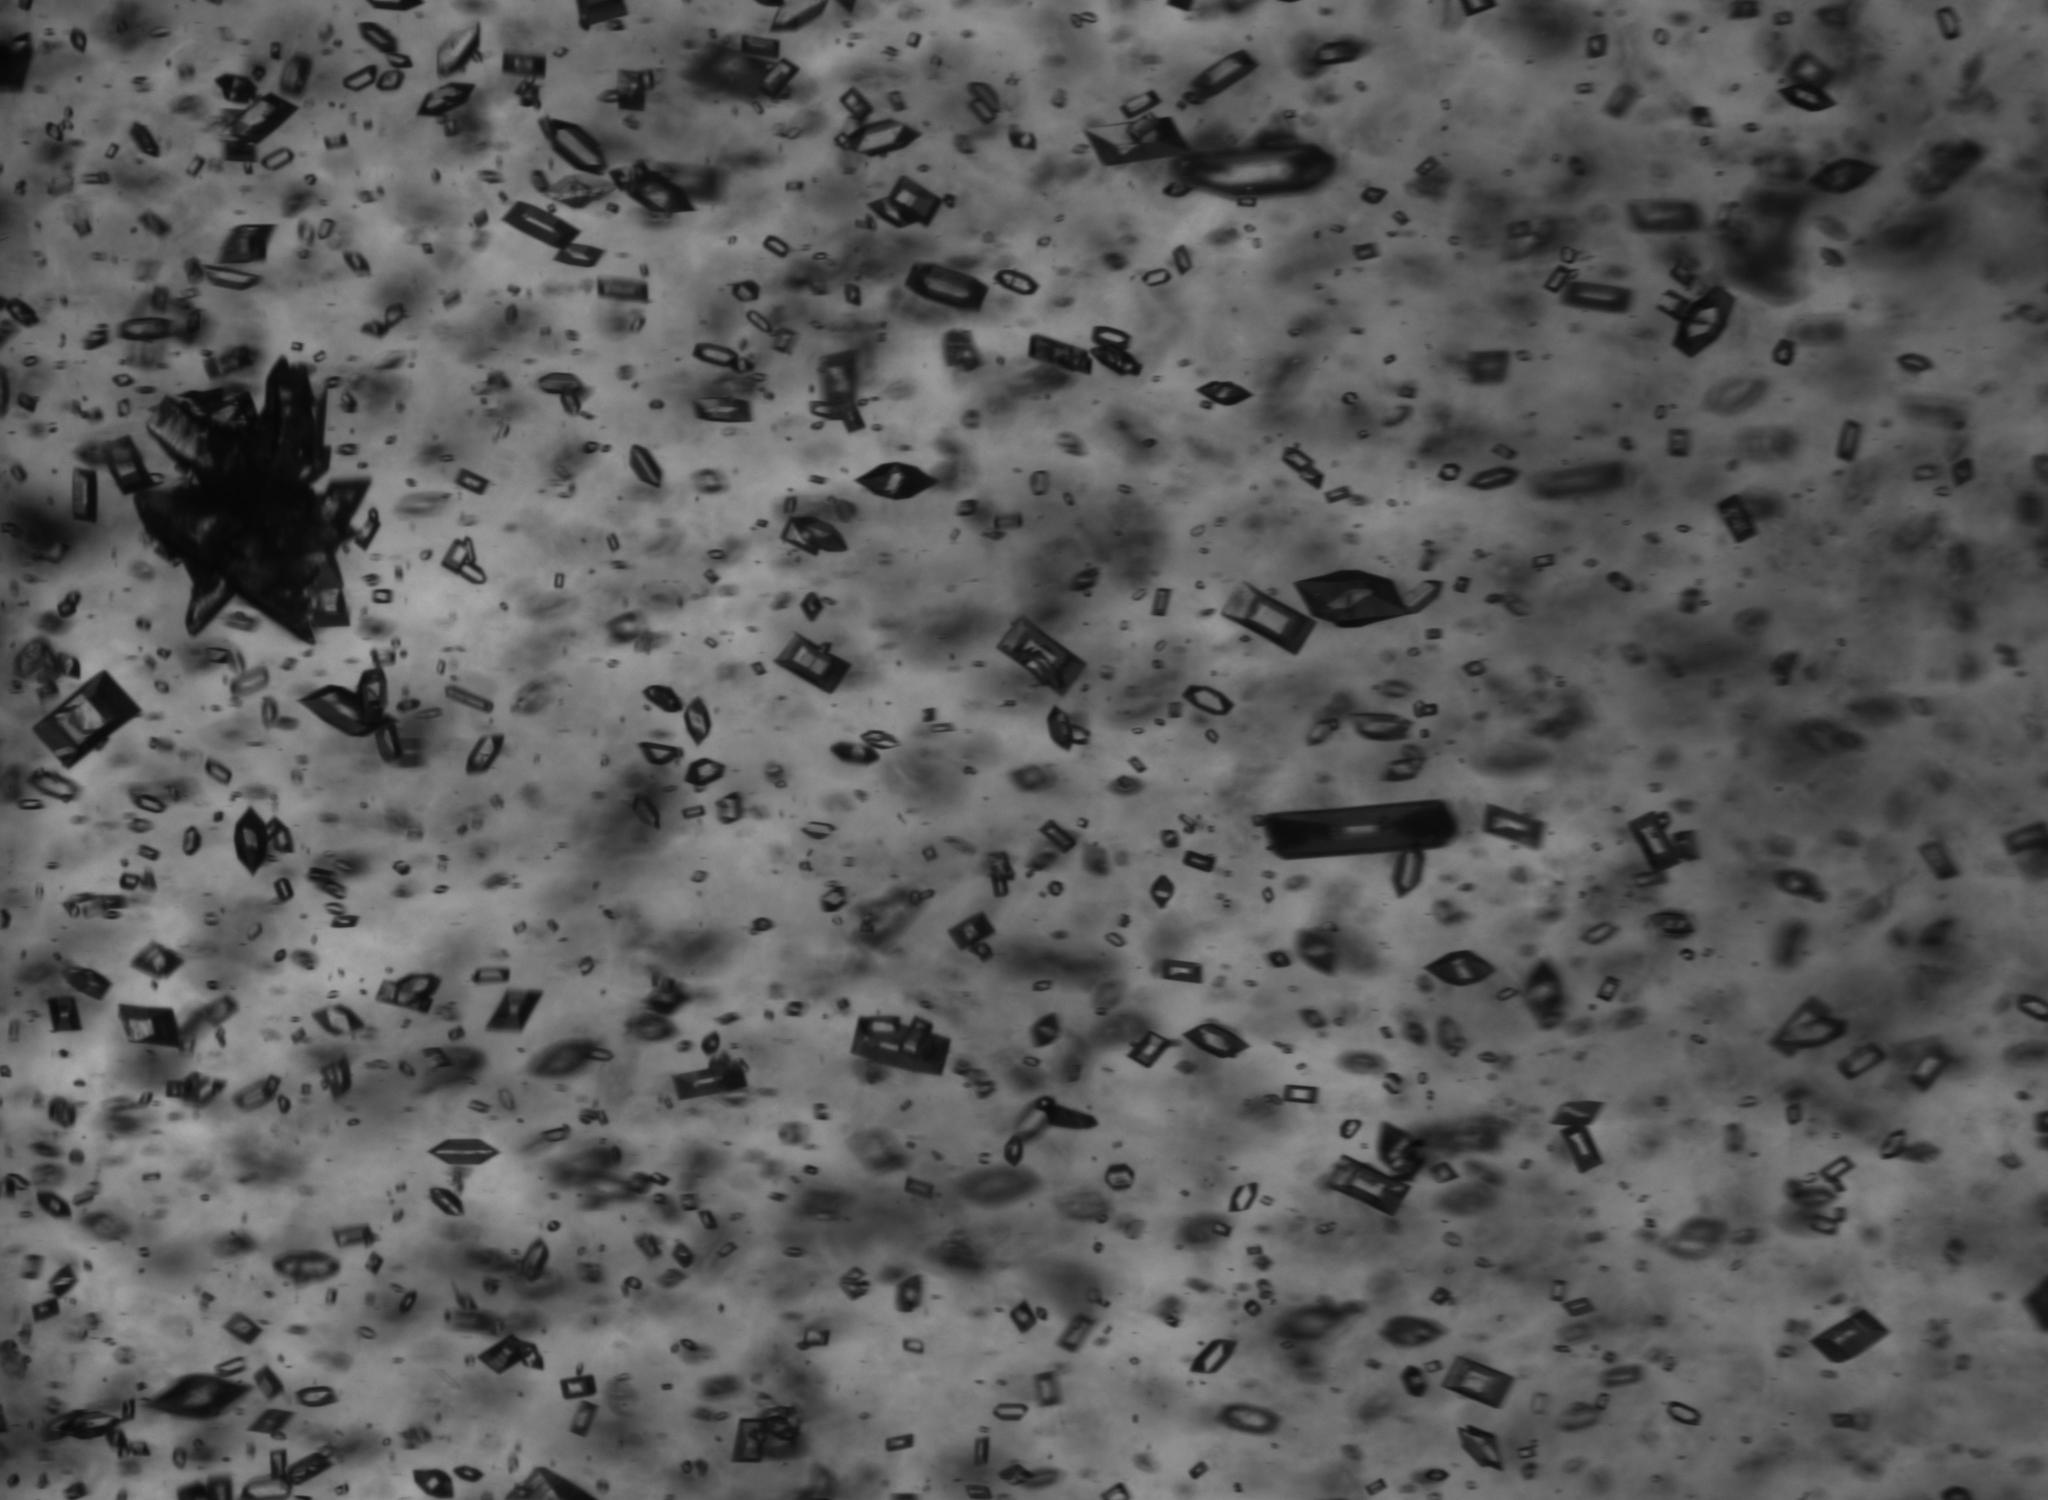crystal: (132, 361, 366, 641), (1255, 800, 1456, 861), (32, 671, 140, 768), (1166, 145, 1337, 192), (216, 65, 297, 164), (1296, 569, 1415, 627), (502, 200, 603, 267), (997, 619, 1084, 694), (1221, 584, 1313, 654), (1654, 285, 1736, 358), (296, 670, 388, 735), (852, 1015, 949, 1075), (194, 223, 277, 290), (1325, 1153, 1410, 1217), (1083, 118, 1193, 165), (240, 1449, 336, 1500), (13, 636, 81, 703), (1809, 1306, 1889, 1363), (149, 1373, 248, 1419), (1628, 811, 1697, 876), (811, 347, 863, 431), (612, 162, 693, 216), (1773, 997, 1848, 1055), (776, 635, 851, 692), (1181, 49, 1258, 105), (730, 1405, 803, 1462), (232, 808, 293, 873), (868, 177, 944, 227), (1441, 1355, 1514, 1408), (906, 264, 989, 310), (1549, 1101, 1603, 1171), (91, 436, 154, 495), (542, 118, 606, 175), (673, 1053, 747, 1101), (472, 1238, 550, 1282), (835, 118, 921, 156), (1778, 54, 1835, 111), (762, 0, 855, 33), (504, 1467, 596, 1500), (857, 461, 937, 499), (1375, 1123, 1426, 1182), (1806, 156, 1881, 196), (119, 1004, 183, 1050), (1089, 326, 1145, 375), (541, 175, 619, 210), (375, 972, 440, 1013), (781, 515, 848, 555), (162, 1071, 229, 1110), (418, 81, 475, 127), (501, 51, 547, 107), (477, 1336, 544, 1374), (1484, 805, 1544, 846), (436, 22, 482, 76), (1029, 334, 1092, 372), (1426, 951, 1495, 986), (1183, 1021, 1248, 1058), (1032, 1096, 1099, 1131), (49, 1408, 122, 1440), (487, 989, 542, 1031), (1630, 200, 1701, 232), (948, 911, 994, 961), (273, 1250, 340, 1284), (1305, 37, 1367, 72), (442, 536, 487, 584), (428, 1137, 499, 1166), (537, 372, 585, 415), (1216, 1403, 1280, 1435), (1563, 280, 1630, 310), (1458, 1427, 1504, 1470), (1905, 1048, 1951, 1091), (1914, 840, 1961, 883), (200, 344, 254, 380), (1046, 708, 1091, 751), (1716, 495, 1757, 541), (1350, 711, 1412, 741), (130, 942, 181, 978), (1837, 1043, 1887, 1080), (192, 262, 261, 290), (1282, 445, 1325, 488), (313, 1004, 366, 1039), (693, 342, 752, 372), (755, 59, 800, 99), (1398, 579, 1442, 617), (1390, 849, 1426, 896), (2002, 819, 2048, 856), (1189, 1338, 1237, 1373), (1053, 1314, 1094, 1354), (838, 86, 876, 129), (64, 964, 110, 999), (967, 81, 1002, 127), (70, 466, 99, 522), (692, 396, 751, 423), (1181, 686, 1234, 716), (464, 733, 501, 776), (1127, 1032, 1172, 1067), (237, 1075, 280, 1110), (321, 1055, 351, 1104), (29, 771, 78, 802), (630, 444, 663, 488), (248, 1408, 294, 1440), (984, 851, 1016, 897), (596, 277, 649, 304), (445, 686, 495, 714), (372, 716, 402, 762), (684, 697, 712, 744), (118, 317, 175, 340), (1196, 382, 1251, 406), (412, 1468, 453, 1500), (176, 1478, 235, 1500), (1119, 91, 1162, 121), (46, 996, 83, 1031), (1040, 819, 1078, 853), (129, 119, 161, 159), (229, 666, 269, 698), (684, 759, 725, 789), (1468, 466, 1519, 490), (830, 740, 878, 765), (793, 1320, 832, 1352), (994, 269, 1038, 296), (617, 70, 646, 111), (638, 741, 684, 767), (569, 1398, 599, 1436), (894, 1274, 924, 1312), (223, 1312, 261, 1343), (359, 22, 398, 52), (642, 684, 682, 713), (1647, 911, 1695, 935), (1837, 420, 1864, 461), (560, 1368, 596, 1398), (429, 1185, 464, 1215), (254, 1365, 285, 1400), (332, 1223, 374, 1249), (340, 62, 377, 91), (1579, 919, 1617, 946), (1030, 1013, 1061, 1047), (1007, 1300, 1037, 1333), (258, 146, 296, 172), (1663, 1400, 1701, 1425), (1228, 1182, 1258, 1214), (1159, 961, 1202, 983), (741, 35, 781, 59), (995, 1463, 1035, 1487), (1148, 873, 1175, 908), (37, 1191, 72, 1218), (1935, 5, 1962, 40), (2016, 994, 2048, 1023), (716, 792, 744, 824), (819, 881, 848, 913), (841, 1266, 870, 1298), (353, 517, 380, 550), (633, 795, 660, 829), (1819, 1156, 1852, 1183), (455, 469, 490, 495), (1035, 1371, 1061, 1406), (991, 1400, 1030, 1422), (1104, 1163, 1135, 1190), (49, 1265, 76, 1296), (1280, 1083, 1318, 1106), (1428, 1160, 1461, 1185), (1401, 1365, 1426, 1398), (1382, 760, 1422, 781), (1560, 1296, 1596, 1319), (1879, 1129, 1905, 1161), (902, 1176, 935, 1199), (1604, 1366, 1639, 1389), (1668, 261, 1697, 288), (860, 730, 900, 749), (1897, 353, 1934, 374), (420, 1048, 453, 1071), (1544, 266, 1571, 293), (800, 592, 825, 620), (204, 757, 232, 783), (1666, 428, 1692, 457), (1771, 337, 1797, 366), (671, 1241, 695, 1271), (375, 68, 405, 92), (32, 1298, 62, 1322), (800, 821, 836, 840), (1181, 851, 1215, 872), (1596, 975, 1622, 1002), (180, 826, 202, 856), (762, 235, 792, 258), (215, 1357, 245, 1379), (1458, 0, 1496, 17), (1172, 245, 1193, 277), (1305, 722, 1332, 746), (272, 876, 294, 905), (1150, 587, 1172, 616), (1412, 154, 1441, 177), (286, 60, 307, 91), (1951, 458, 1972, 488), (1003, 1136, 1022, 1168), (773, 326, 797, 352), (1606, 569, 1631, 593), (1029, 469, 1051, 496), (1008, 130, 1037, 151), (299, 1385, 332, 1403), (1321, 485, 1352, 504), (184, 153, 207, 178), (83, 329, 108, 352), (57, 592, 80, 617), (1266, 948, 1293, 969), (1585, 33, 1606, 60), (1809, 1215, 1837, 1236), (342, 255, 370, 274), (696, 1209, 719, 1233), (747, 310, 771, 332), (884, 1433, 914, 1451), (733, 282, 758, 302), (472, 969, 509, 983), (584, 1045, 615, 1061), (135, 795, 164, 813), (1143, 269, 1172, 286), (1461, 659, 1487, 678), (364, 1250, 383, 1276), (320, 881, 345, 900), (964, 1484, 994, 1500), (1100, 1484, 1131, 1500), (1360, 188, 1390, 204), (1162, 183, 1193, 199), (1352, 243, 1379, 261), (1490, 442, 1517, 460), (1382, 1072, 1402, 1094), (1429, 1285, 1452, 1306), (1437, 463, 1461, 482), (1690, 108, 1714, 127), (843, 283, 862, 307), (324, 132, 350, 150), (70, 27, 87, 52), (135, 845, 161, 862), (1530, 1392, 1547, 1417), (975, 1436, 989, 1467), (455, 1465, 482, 1481), (994, 514, 1021, 530), (1342, 1118, 1361, 1141), (887, 91, 906, 113), (1364, 1478, 1387, 1497), (401, 1292, 418, 1315), (385, 52, 413, 67), (308, 867, 334, 883), (677, 1193, 698, 1212), (1189, 1460, 1210, 1479), (716, 1241, 738, 1258), (541, 1126, 564, 1142), (1414, 703, 1437, 719), (1127, 756, 1146, 775), (1528, 554, 1553, 568), (919, 843, 938, 862), (1550, 1280, 1568, 1301), (318, 218, 336, 239), (701, 1032, 719, 1053), (956, 499, 976, 517), (1390, 210, 1410, 227), (83, 172, 110, 185), (207, 647, 231, 662), (121, 1398, 135, 1422), (75, 220, 92, 239), (747, 660, 766, 678), (1161, 830, 1180, 848), (1243, 1300, 1263, 1317), (391, 859, 410, 876), (681, 806, 706, 819), (1425, 1470, 1450, 1483), (467, 1099, 490, 1113), (649, 1172, 671, 1187), (1496, 986, 1519, 1001), (1422, 1360, 1444, 1374), (46, 122, 62, 142), (119, 873, 138, 889), (447, 1026, 466, 1042), (332, 916, 359, 927), (130, 1441, 151, 1455), (1786, 1102, 1800, 1123), (1771, 10, 1792, 24), (17, 799, 43, 810), (927, 722, 952, 733), (114, 372, 132, 388), (1453, 576, 1469, 593), (1560, 247, 1577, 262), (814, 1102, 830, 1120), (579, 956, 593, 975), (903, 1339, 922, 1354), (679, 1339, 700, 1352), (1212, 1223, 1232, 1236), (1517, 1448, 1538, 1460), (103, 143, 119, 159), (606, 533, 620, 550), (754, 918, 771, 932), (1595, 1392, 1609, 1409), (118, 398, 130, 417), (372, 590, 391, 603), (903, 33, 922, 46), (1237, 194, 1256, 207), (1261, 886, 1274, 905), (563, 1376, 593, 1384), (291, 1028, 305, 1043), (782, 496, 795, 514), (1107, 932, 1124, 945), (1340, 391, 1358, 404), (1398, 387, 1415, 399), (1425, 628, 1442, 641), (1738, 1094, 1755, 1107), (326, 903, 345, 915), (1021, 1056, 1040, 1067), (1550, 1344, 1573, 1354), (704, 569, 719, 584), (1204, 729, 1218, 743), (1048, 881, 1062, 896), (921, 708, 935, 722), (625, 1277, 641, 1290), (1678, 948, 1693, 961), (690, 872, 708, 883), (708, 549, 725, 560), (1170, 701, 1181, 719), (1034, 980, 1051, 991), (1328, 223, 1345, 234), (1479, 1051, 1496, 1063), (785, 181, 805, 191), (1379, 1026, 1393, 1039), (359, 1328, 375, 1339), (1576, 83, 1592, 94), (431, 884, 448, 894), (704, 638, 719, 649), (545, 1220, 560, 1231), (275, 950, 286, 962), (1356, 429, 1369, 441), (803, 1166, 817, 1176), (291, 340, 302, 352), (1076, 818, 1088, 829), (1441, 99, 1450, 111), (555, 574, 563, 589), (1382, 355, 1396, 363), (1407, 647, 1420, 655), (1418, 1072, 1426, 1085), (755, 520, 768, 527), (1132, 729, 1143, 735), (1156, 719, 1164, 725)
